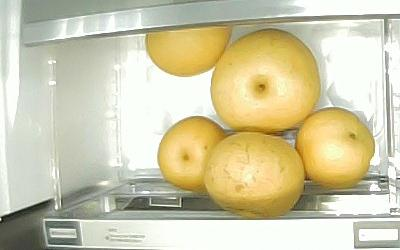pear: (210, 28, 320, 133), (203, 131, 304, 216), (294, 107, 375, 188), (157, 115, 228, 193), (145, 25, 232, 77)
